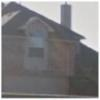chimneys: (60, 1, 72, 32)
